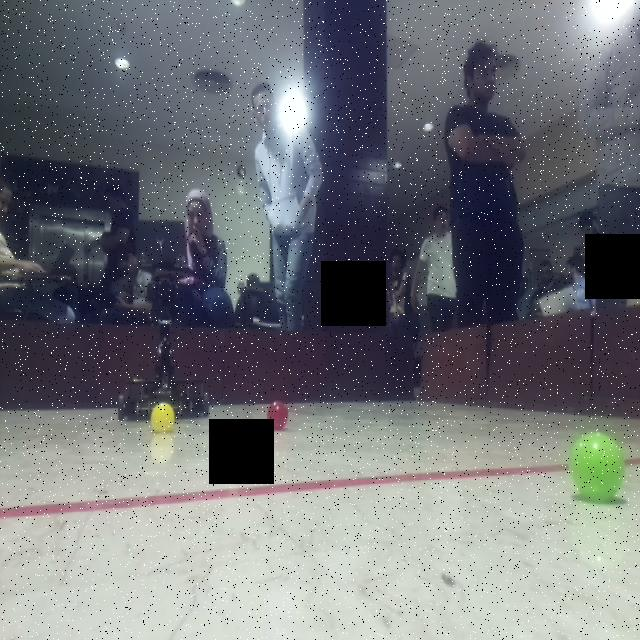ball: (570, 428, 626, 505), (264, 397, 294, 434), (147, 400, 178, 434)
